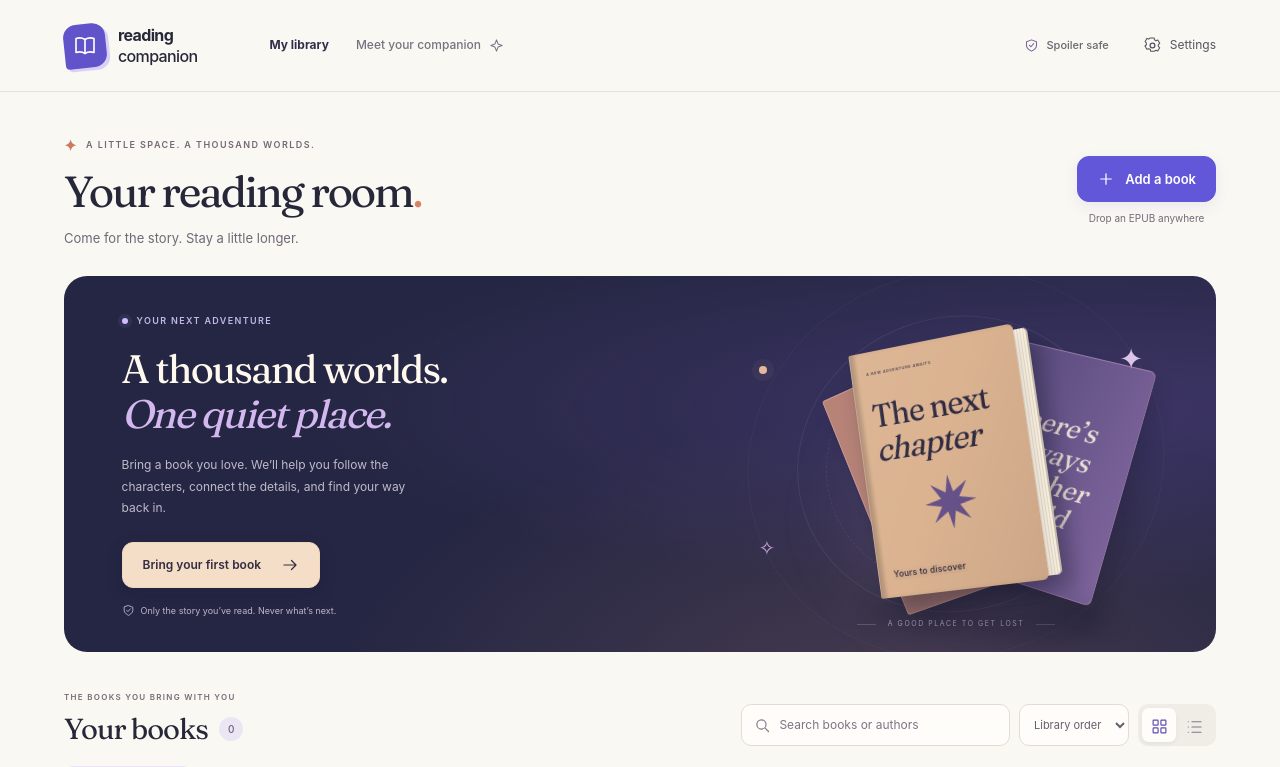
Shelf a11y › offers provider settings only when the hosted endpoint is available
The width and height of the screenshot is (1280, 767).
Step 1. Click the button with aria-label "Library settings and account" → (1174, 46), box [1133,24,1216,68]
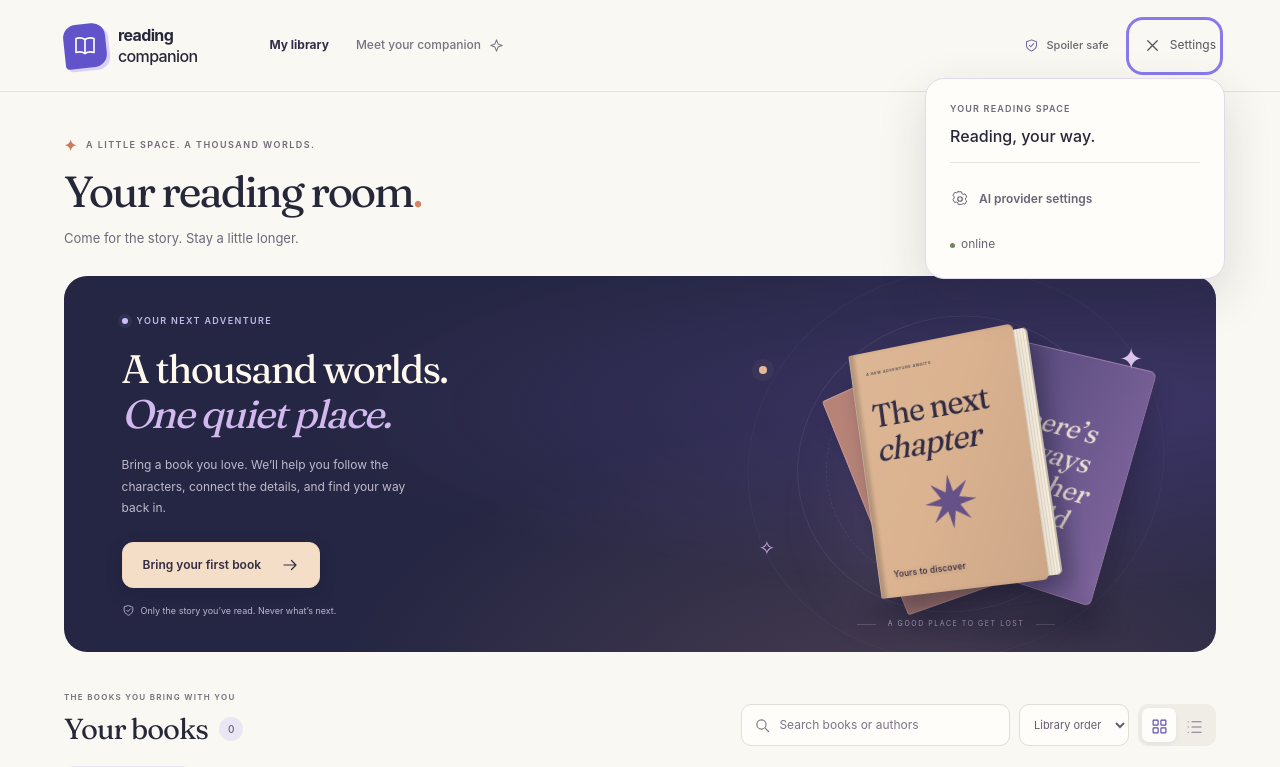
Check: the button "AI provider settings" is shown, box [950,179,1200,219]
